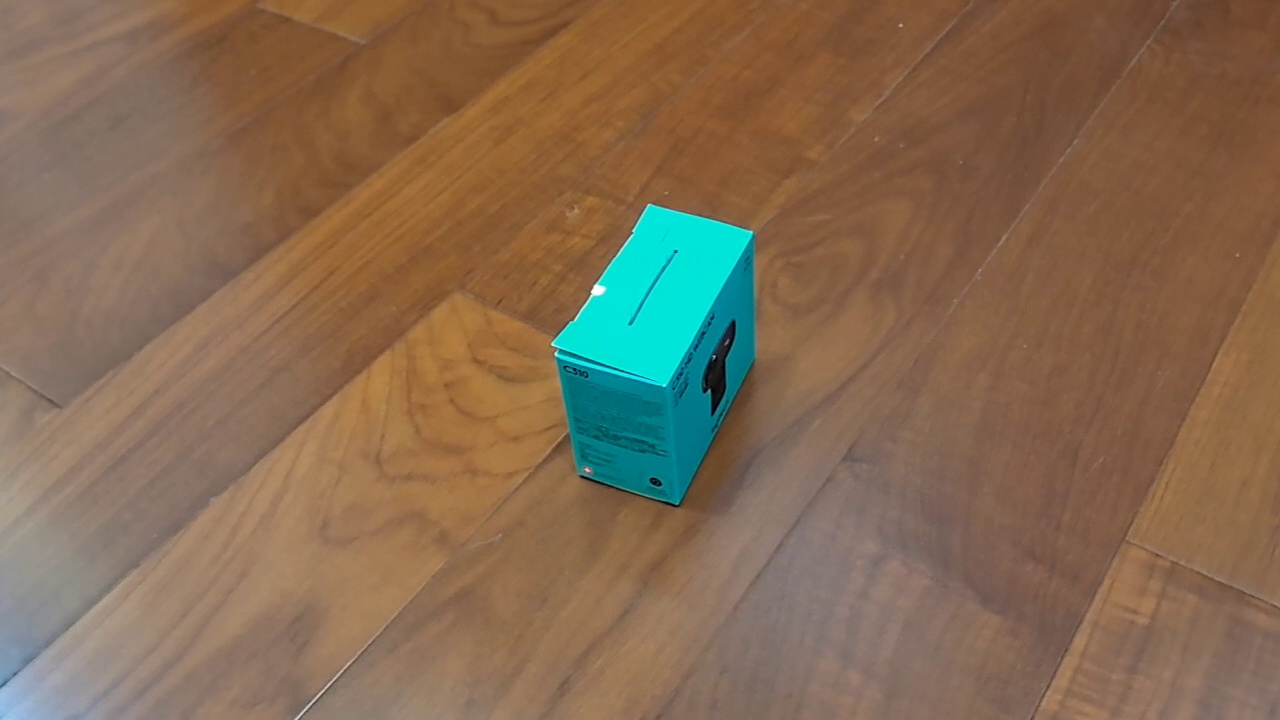webcam: (550, 203, 757, 507)
